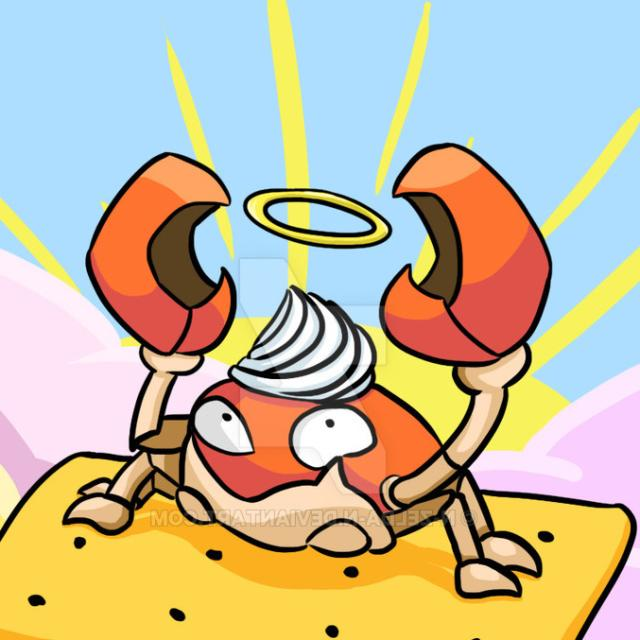Krabby: (91, 137, 548, 564)
